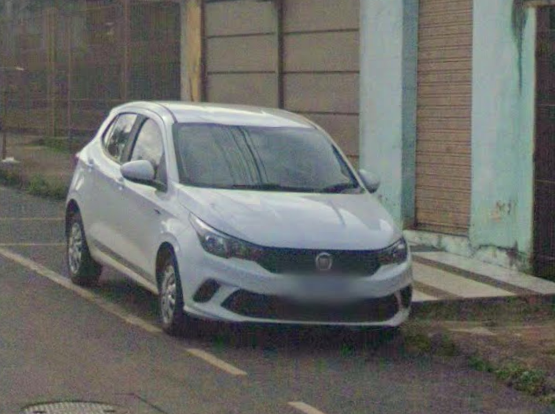car: (58, 78, 419, 350)
